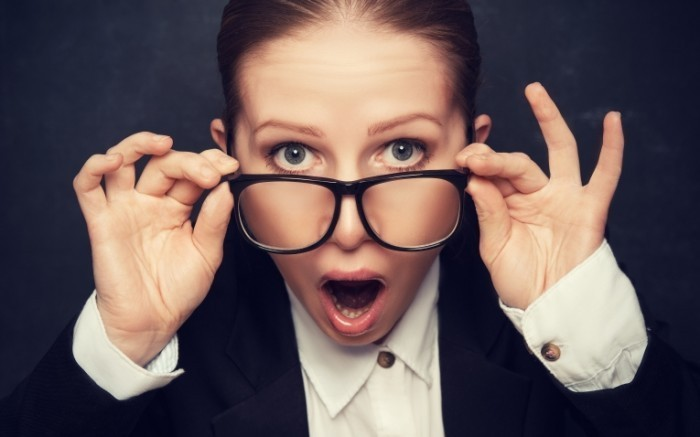glasses: (205, 155, 493, 264)
